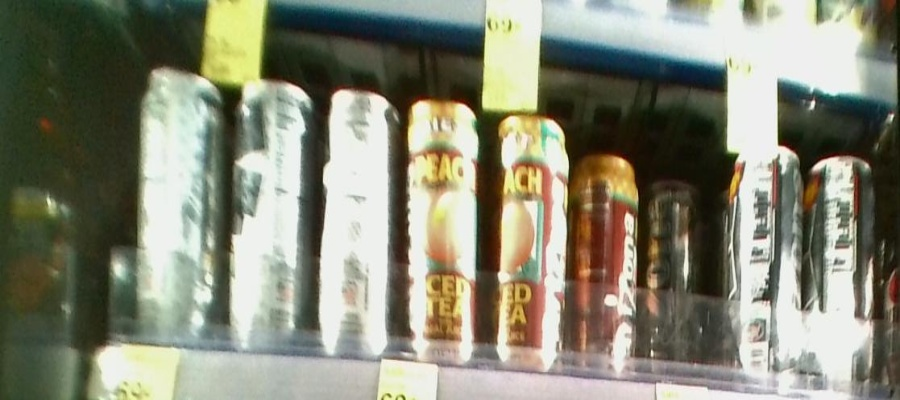bottle: (223, 59, 315, 355), (134, 52, 214, 355), (405, 81, 486, 375), (320, 66, 400, 358), (491, 90, 571, 378), (720, 137, 805, 388), (807, 133, 876, 394), (578, 133, 644, 378), (645, 157, 705, 373)
